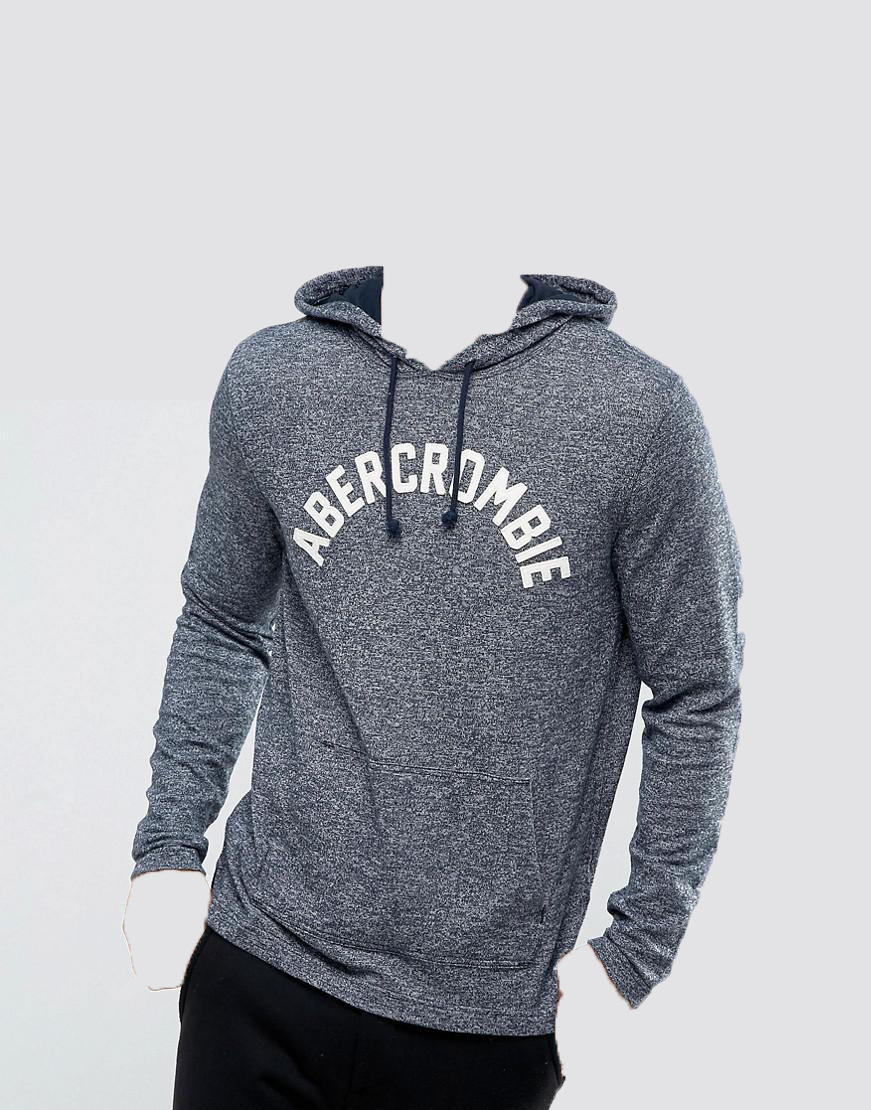teeshirt: (105, 262, 751, 1030)
